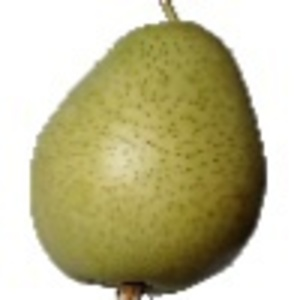pera: (27, 1, 268, 300)
